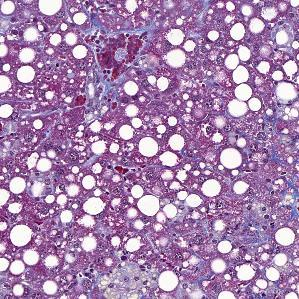fibrosis: (228, 191, 299, 246), (83, 260, 163, 299), (79, 57, 123, 119)
